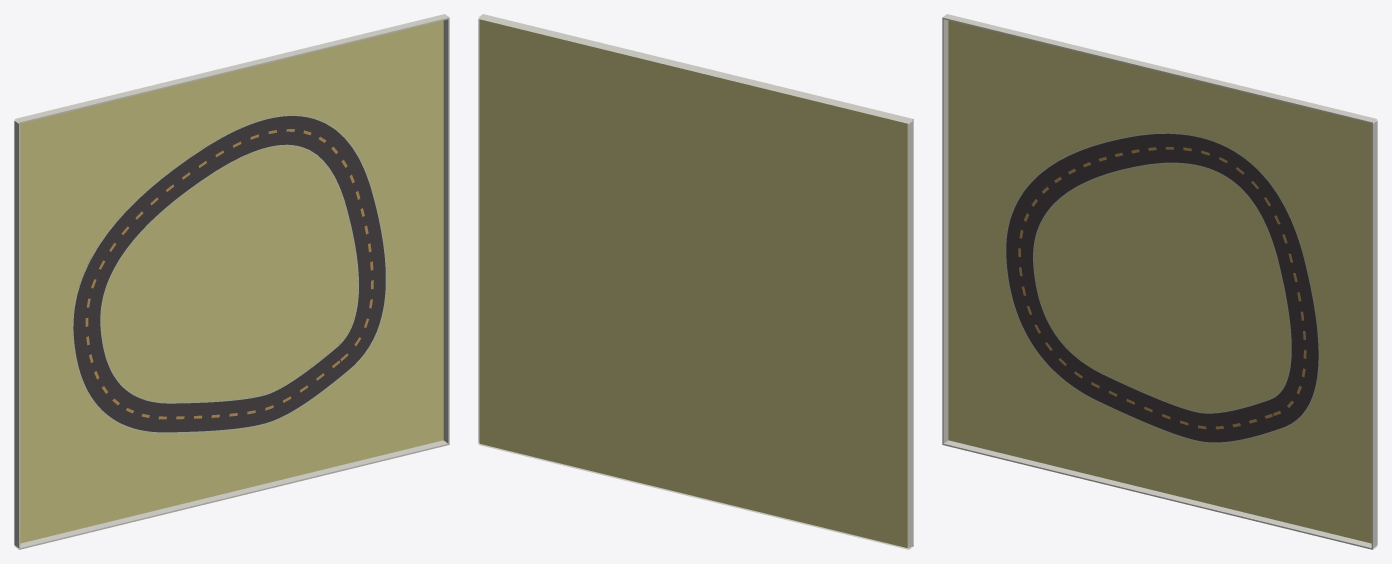
File: track.obj
The picture shows the model from 3 angles, left to right: view 1: azimuth 30°, elevation 25°; view 2: azimuth 150°, elevation 25°; view 3: azimuth 330°, elevation 25°; orthographic projection.
Size of the model in its own units: 15.53 by 14.73 by 0.3.
5 materials, 5 textured.
